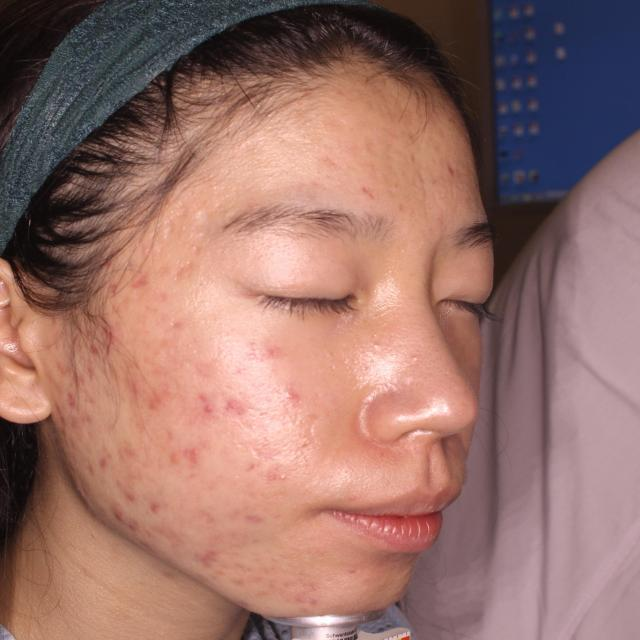Acne: (117, 484, 267, 560), (124, 379, 196, 479), (252, 349, 308, 424), (126, 263, 178, 337), (68, 274, 125, 322), (198, 393, 244, 448), (276, 562, 332, 607), (70, 328, 110, 388), (64, 396, 100, 460), (324, 153, 376, 197), (170, 209, 206, 254), (250, 458, 294, 492), (440, 160, 487, 191)
